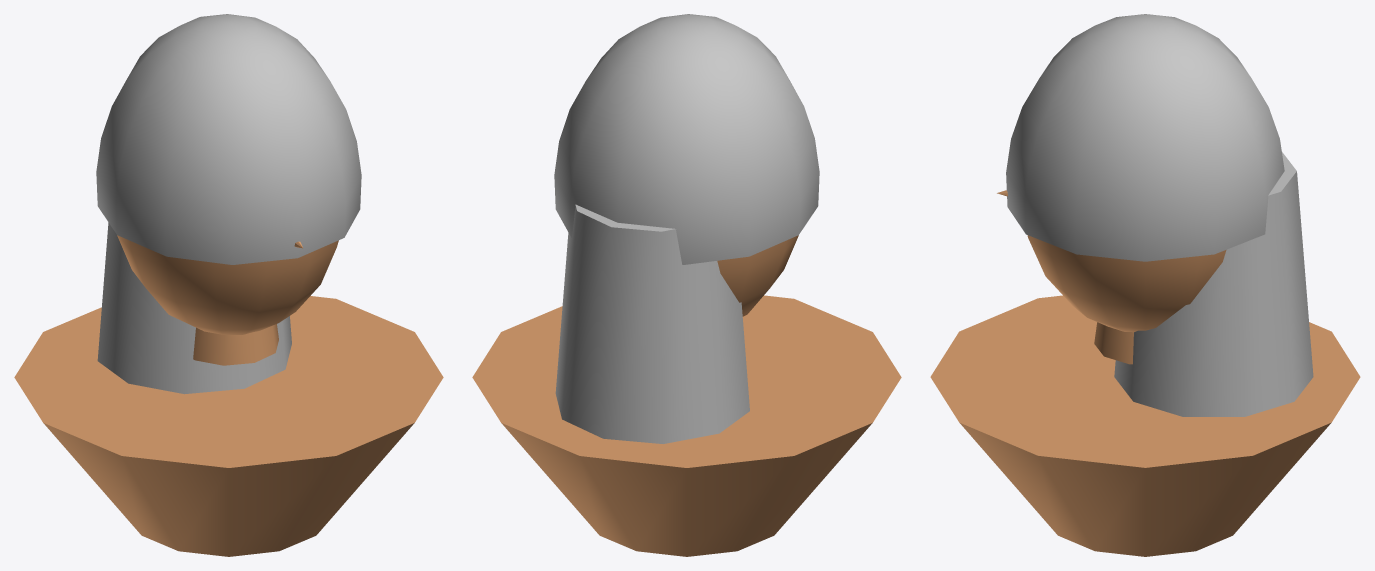
File: portrait15t_001.glb
The picture shows the model from 3 angles, left to right: view 1: azimuth 30°, elevation 25°; view 2: azimuth 150°, elevation 25°; view 3: azimuth 270°, elevation 25°; orthographic projection.
Bounding box in the file's own units: 1.76 × 2.22 × 1.76.
